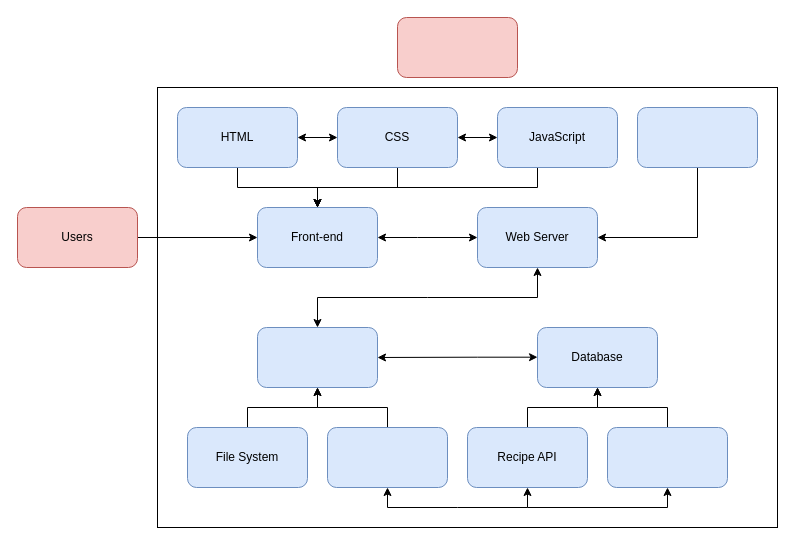
The diagram is 795 pixels wide and 545 high, and some of its shapes have lost their labels. The box of each missing label's shape, as (x1, y1, x2, y2) in pixels:
Business Layer: (256, 326, 378, 388)
Heroku: (636, 106, 758, 168)
NodeJS: (326, 426, 448, 488)
Postgre SQL: (606, 426, 728, 488)
Web Application Architecture: (396, 16, 518, 78)
